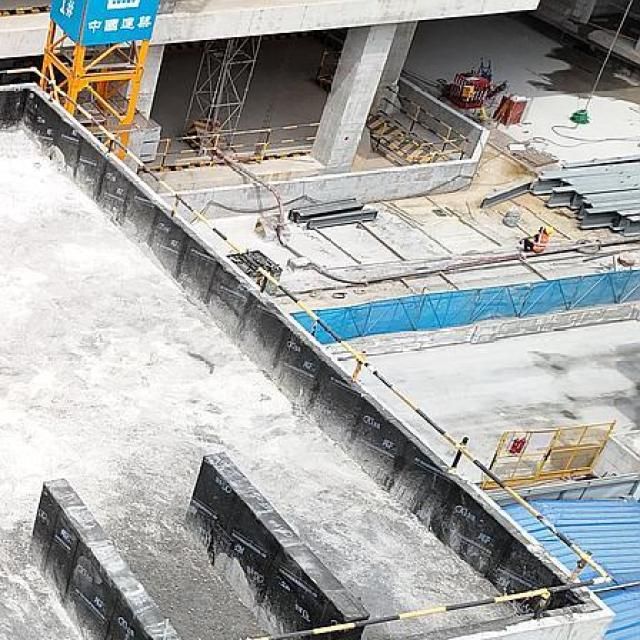edge_guardrail: (0, 65, 614, 640), (140, 122, 320, 167), (378, 84, 469, 160)
